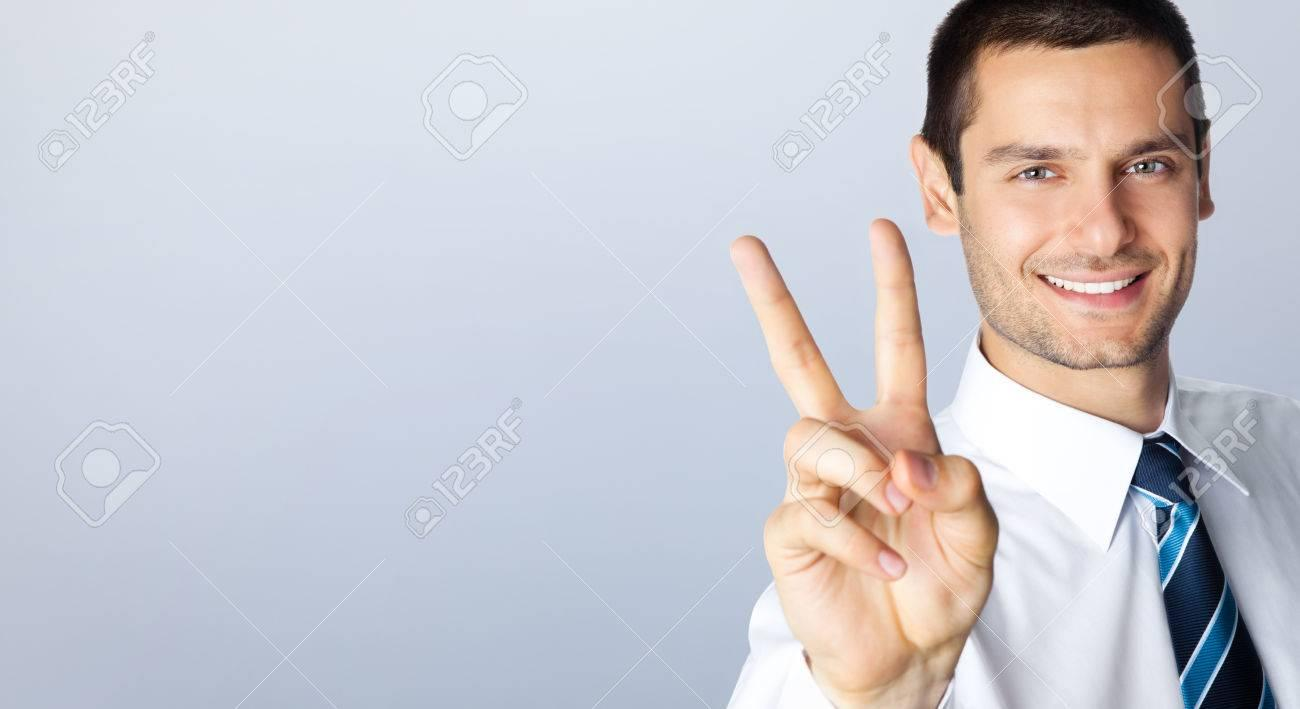peace_sign: (712, 193, 1008, 706)
